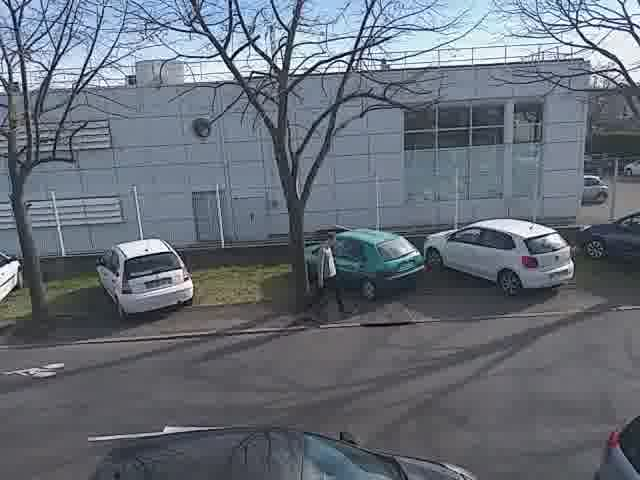persona: (302, 225, 356, 322)
